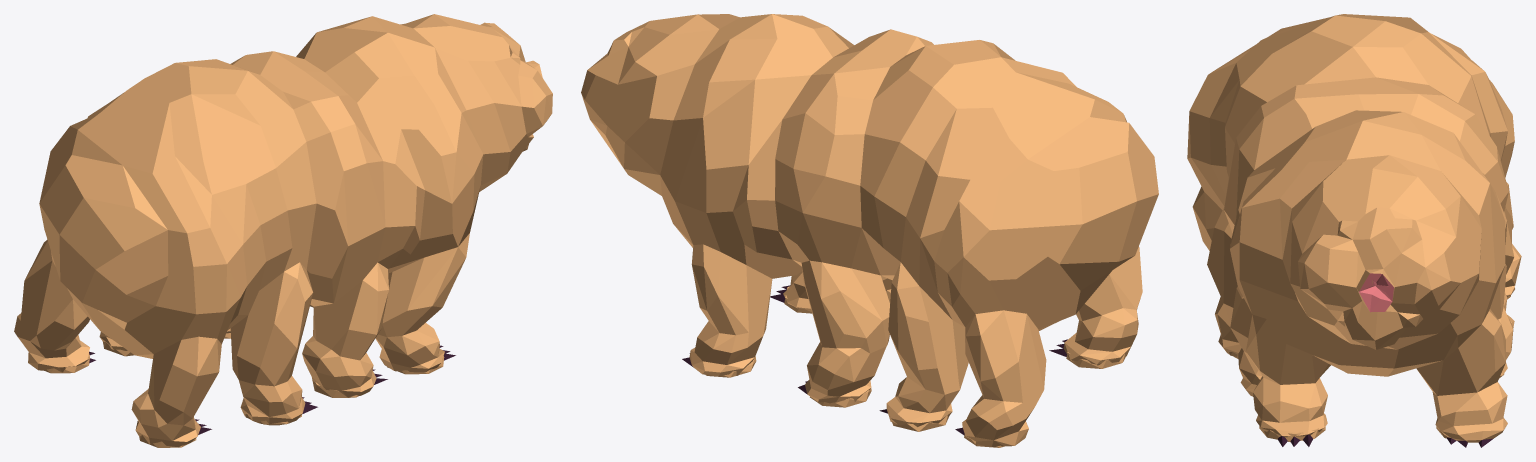
File: waterbear.fbx
The picture shows the model from 3 angles, left to right: view 1: azimuth 30°, elevation 25°; view 2: azimuth 150°, elevation 25°; view 3: azimuth 270°, elevation 25°; orthographic projection. The views are drawn at different scales.
Parts seen in each view (by area): view 1: TARDIGRADE.002; view 2: TARDIGRADE.002; view 3: TARDIGRADE.002.
Boxes of the visible parts, x1=… form: TARDIGRADE.002: x1=14, y1=14, x2=552, y2=447; TARDIGRADE.002: x1=581, y1=14, x2=1158, y2=447; TARDIGRADE.002: x1=1187, y1=14, x2=1521, y2=447.
Size of the model in its own units: 7927 by 4686 by 4467.
